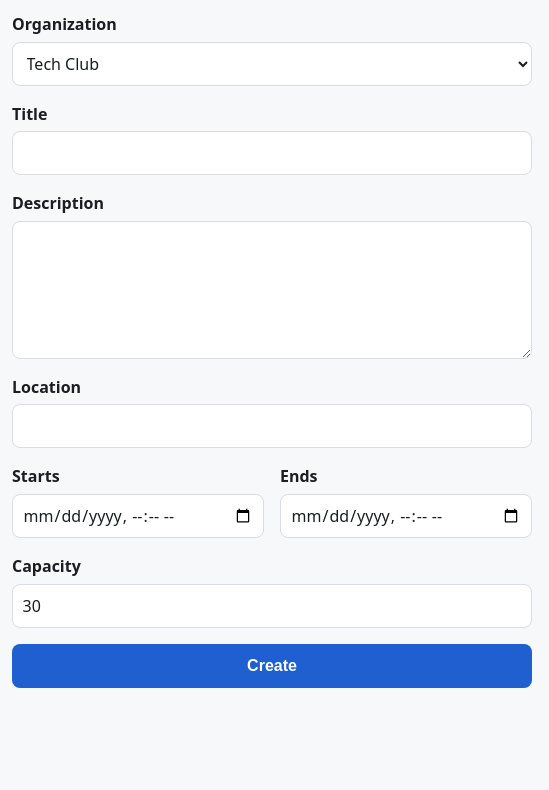
Scenario: EventForm – error state › renders server-side error messages when the action returns them
This screenshot has width=549, height=790.
Simulate submitting the form.
Click the button "Create" at (272, 666), box [12, 644, 532, 688]
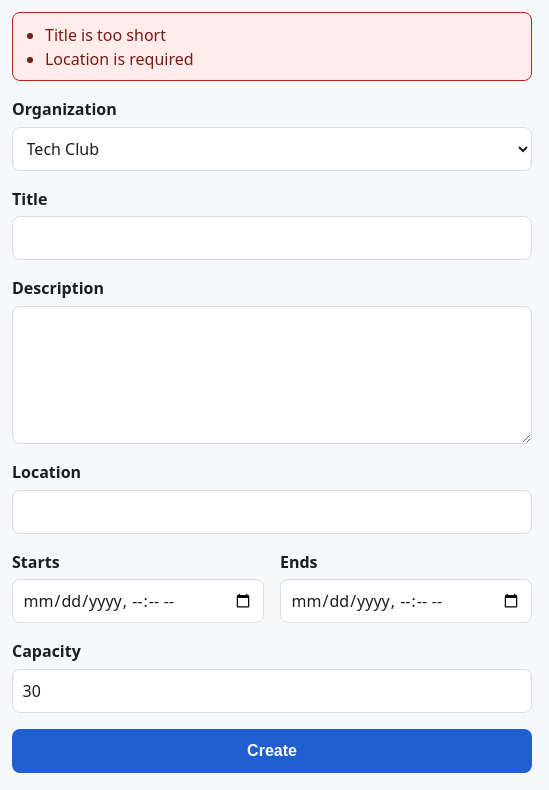
Expected: the message "Title is too short Location is required" is shown, [12, 12, 532, 81]
Expected: the list item "Title is too short" is shown, [45, 24, 166, 46]
Expected: the list item "Location is required" is shown, [45, 48, 194, 70]
